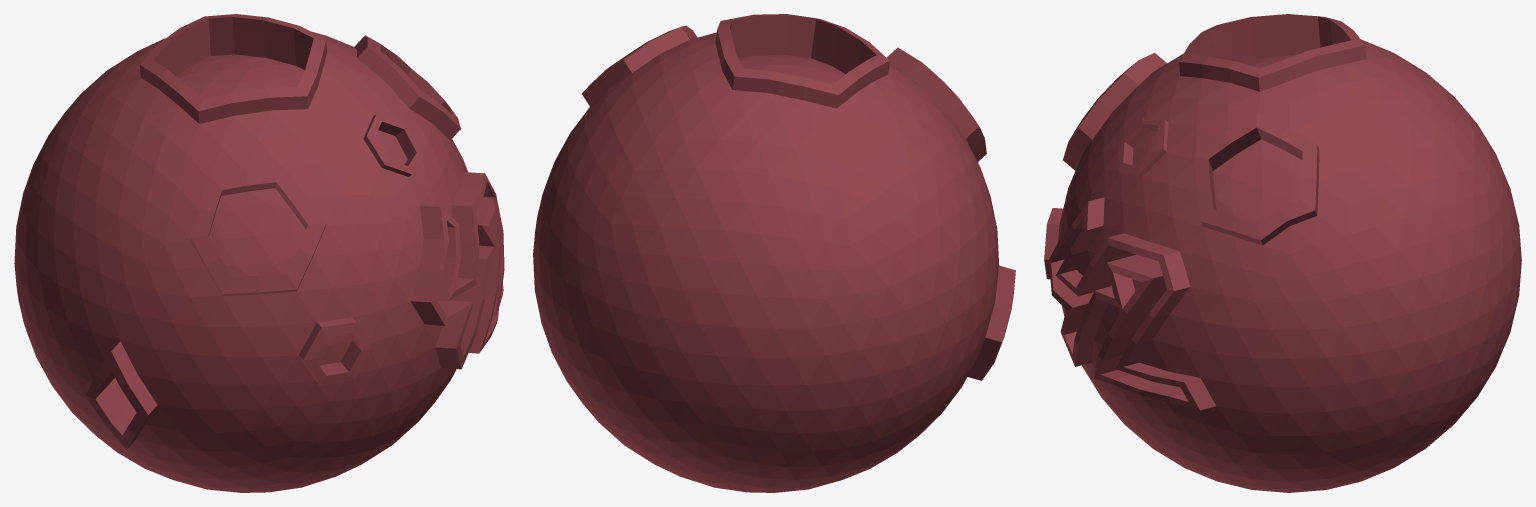
File: Break_Rock.glb
The picture shows the model from 3 angles, left to right: view 1: azimuth 30°, elevation 25°; view 2: azimuth 150°, elevation 25°; view 3: azimuth 270°, elevation 25°; orthographic projection.
Visible parts, largest first — view 1: Icosphere; view 2: Icosphere; view 3: Icosphere.
Boxes of the visible parts, <box> form: Icosphere: <box>14,14,504,492</box>; Icosphere: <box>533,14,1015,492</box>; Icosphere: <box>1044,14,1521,492</box>.
Bounding box in the file's own units: 2 × 2.05 × 2.05.
